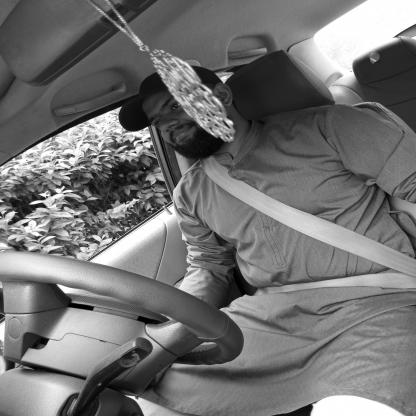seatbelt: (102, 74, 404, 274)
